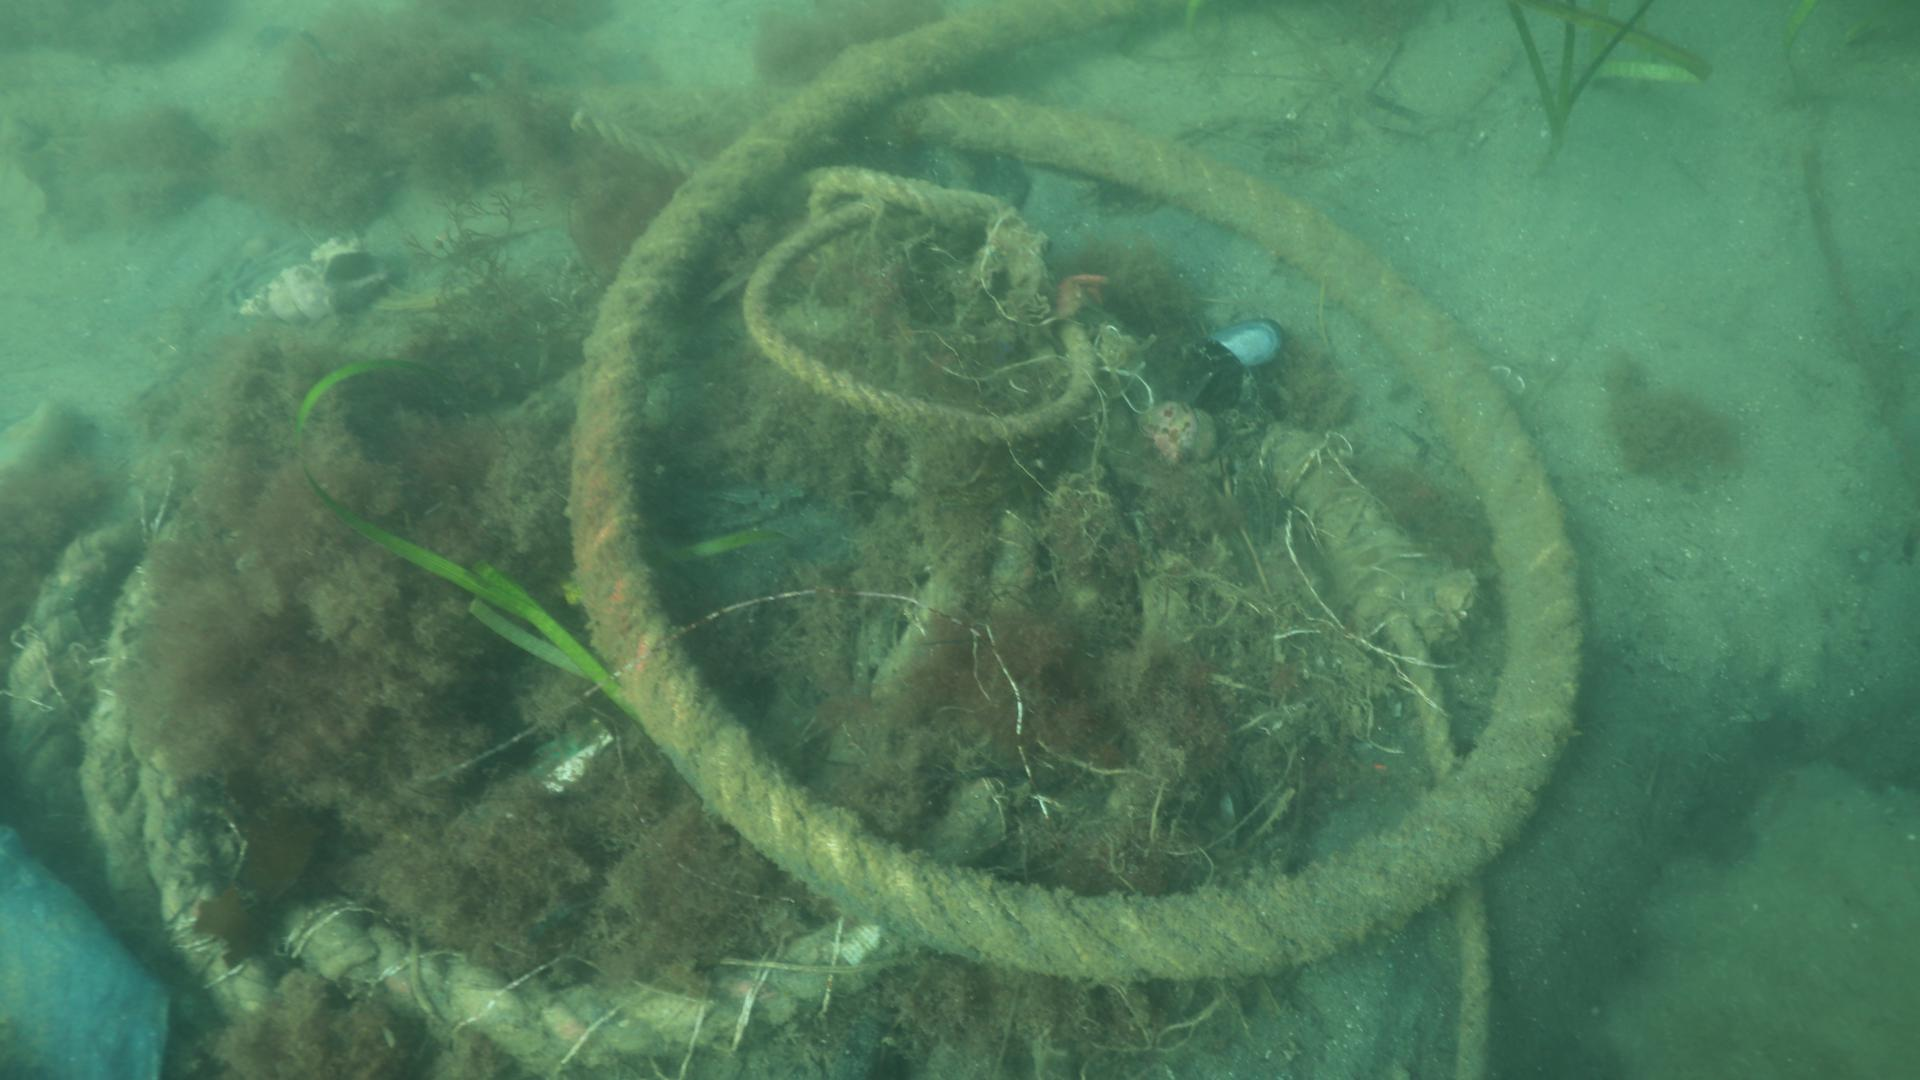bundle of ropes: (0, 0, 1592, 1069)
